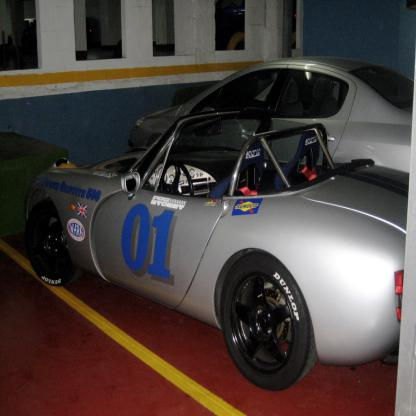Car: (25, 108, 406, 391), (127, 57, 416, 172)
